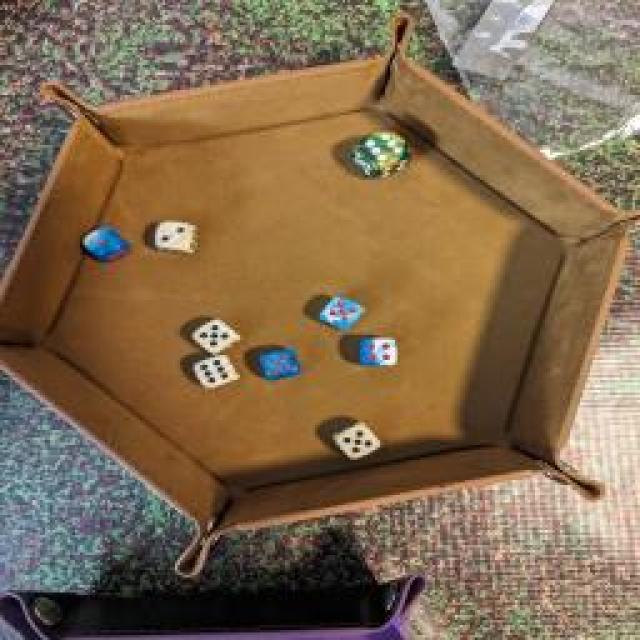dice_1: (76, 224, 132, 261)
dice_2: (151, 216, 201, 256)
dice_4: (355, 334, 405, 368)
dice_5: (328, 418, 388, 462), (192, 312, 246, 352), (320, 291, 370, 331), (255, 345, 305, 380)
dice_6: (352, 128, 416, 180), (190, 351, 242, 389)
